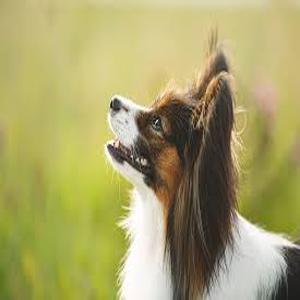yell: (103, 44, 300, 300)
